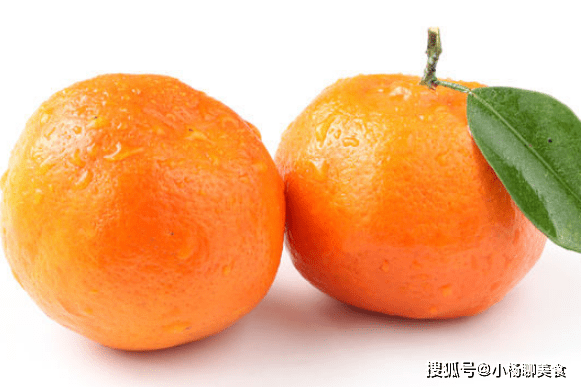orange: (280, 41, 569, 339), (2, 84, 277, 357)
